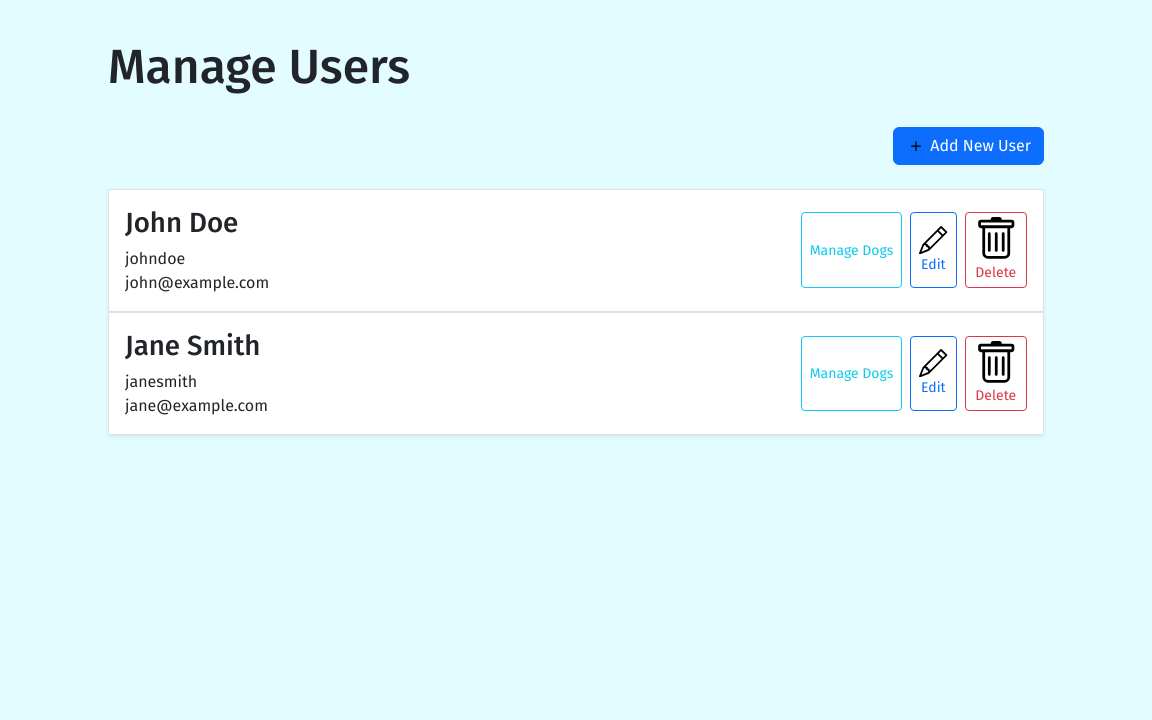
ManageUsers Component › deletes a dog after confirmation
This screenshot has width=1152, height=720.
Expected: the heading "John Doe" is shown, [125,206,238,239]
Note: Open manage dogs modal
Click the button "Manage Dogs" in the row of "john@example.com" at [851, 250], box [801,212,902,288]
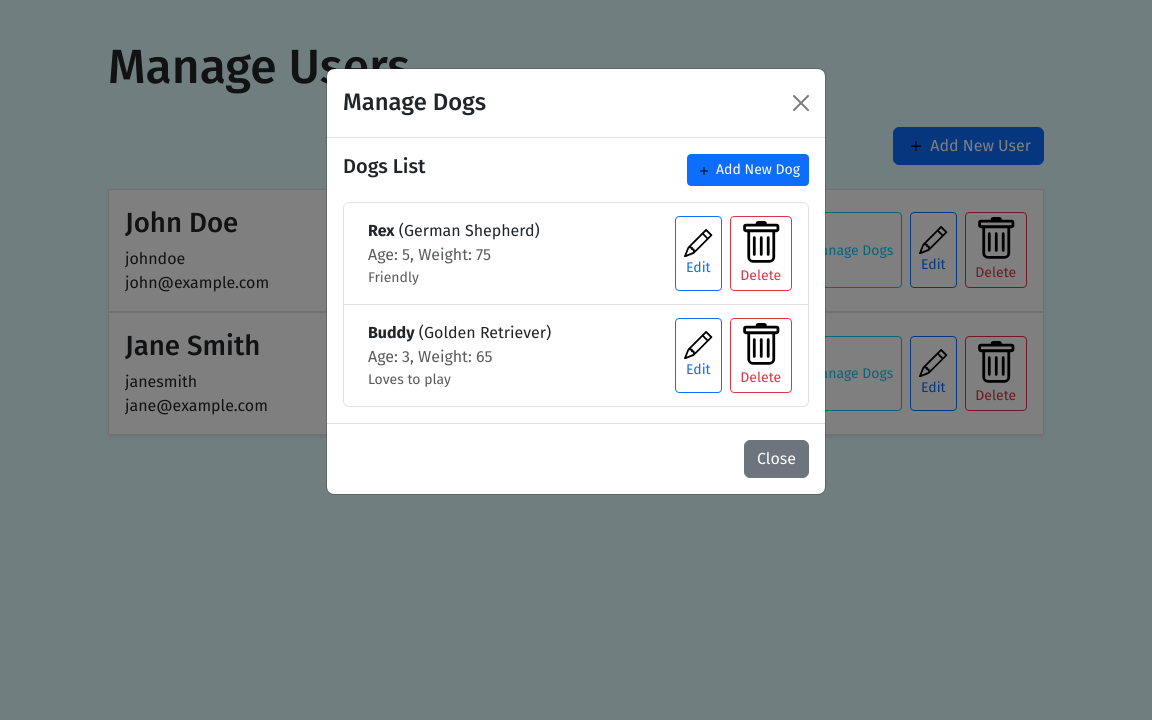
Result: the text "Rex" is shown at [368,221,394,240]
Click the button "Delete" in the row of "German Shepherd" at [761, 253], box [730,216,792,291]
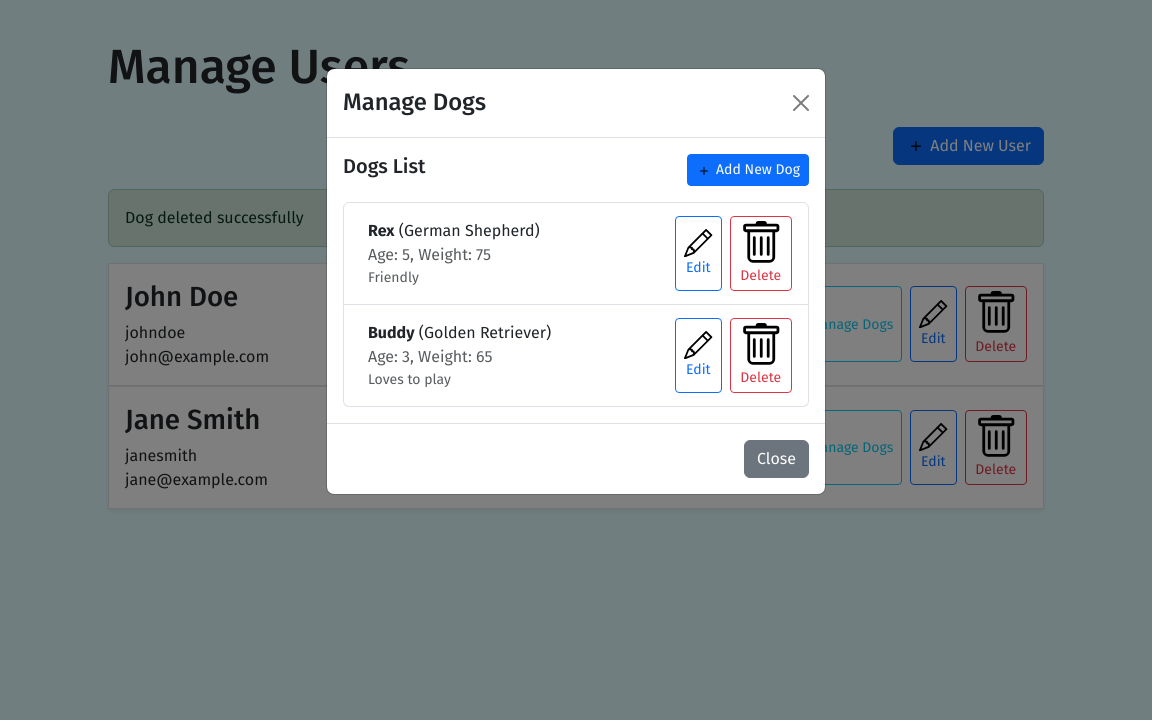
Result: the text "Dog deleted successfully" is shown at [108,189,1044,247]
